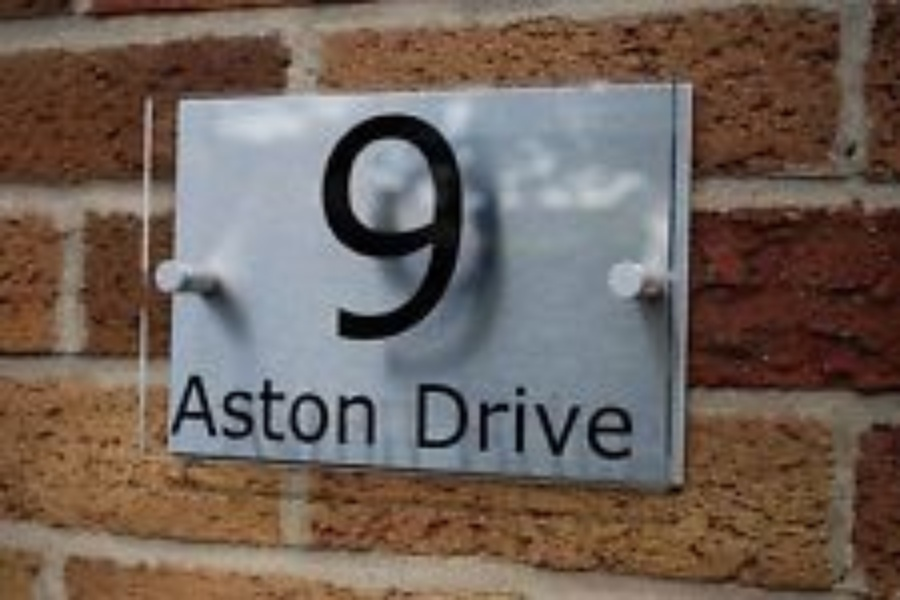text: (449, 109, 465, 341), (321, 109, 336, 341), (337, 109, 352, 341), (353, 109, 368, 341), (369, 109, 384, 341), (385, 109, 400, 341), (401, 109, 416, 341), (417, 109, 432, 341), (433, 109, 448, 341), (177, 369, 192, 449), (193, 369, 208, 449), (209, 369, 224, 449), (225, 369, 240, 449), (241, 369, 256, 449), (257, 369, 272, 449), (273, 369, 288, 449), (289, 369, 304, 449), (305, 369, 320, 449), (321, 369, 336, 449), (337, 369, 352, 449), (353, 369, 368, 449), (417, 381, 432, 461), (433, 381, 448, 461), (449, 381, 464, 461), (465, 381, 480, 461), (481, 381, 496, 461), (497, 381, 512, 461), (513, 381, 528, 461), (529, 381, 544, 461), (545, 381, 560, 461), (561, 381, 576, 461), (577, 381, 592, 461), (593, 381, 608, 461), (609, 381, 624, 461), (369, 369, 377, 449), (625, 381, 633, 461), (169, 369, 176, 449)
